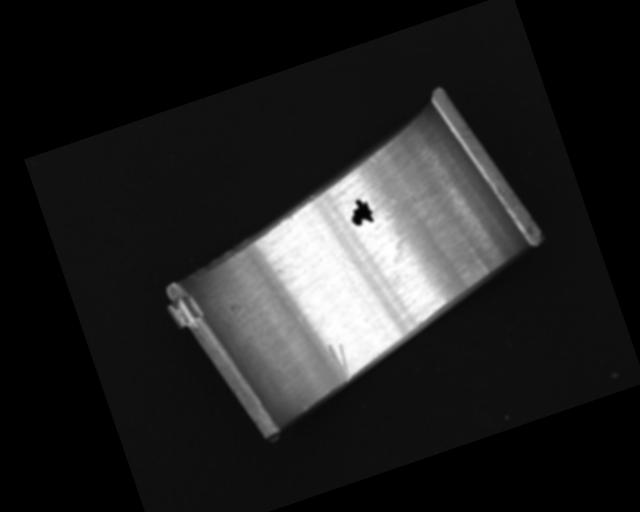blot: (344, 194, 377, 230)
nick: (325, 340, 355, 384), (297, 398, 308, 413)
